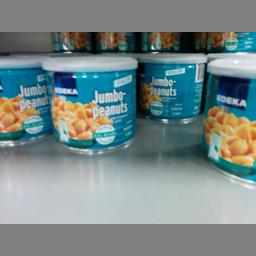nuts: (40, 55, 137, 153), (198, 57, 255, 182), (135, 52, 207, 124), (0, 56, 51, 145)
